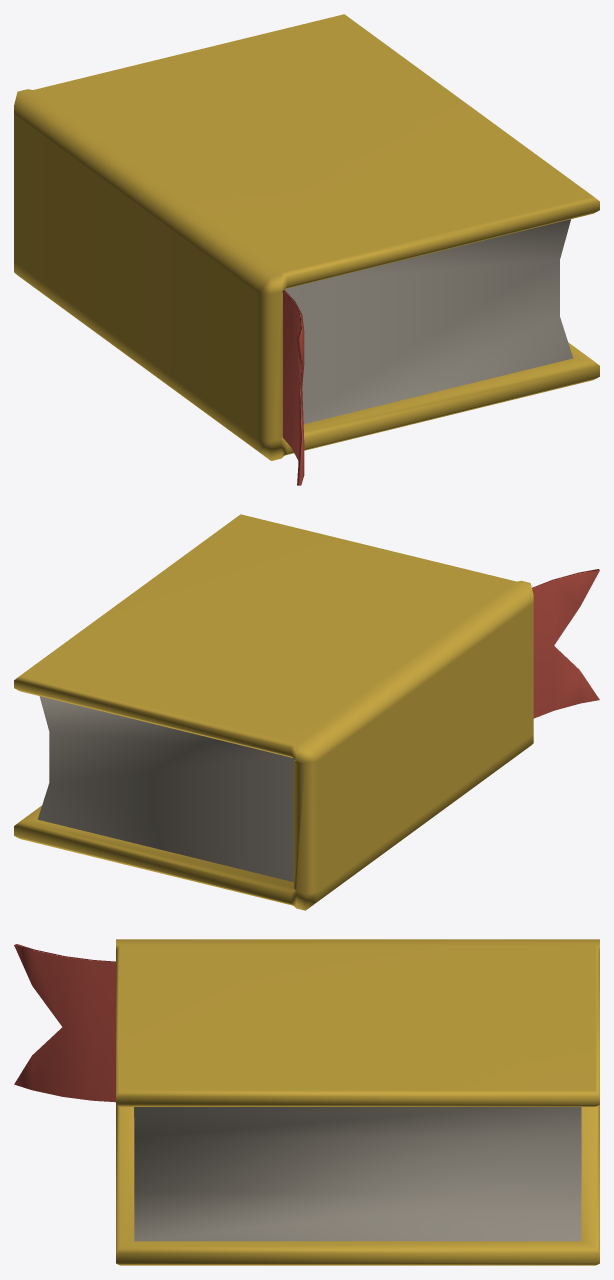
The model's file is BookClosed_v2.fbx.
The picture shows the model from 3 angles, top to bottom: view 1: azimuth 30°, elevation 25°; view 2: azimuth 150°, elevation 25°; view 3: azimuth 270°, elevation 25°; orthographic projection. The views are drawn at different scales.
Visible parts, largest first — view 1: Cover, Ribbon; view 2: Cover, Ribbon; view 3: Cover, Ribbon.
Boxes of the visible parts, x1,y1,x2,y2 form: Cover: (14,14,599,460); Ribbon: (282,289,304,485); Cover: (14,514,533,910); Ribbon: (532,569,599,718); Cover: (116,939,599,1265); Ribbon: (14,944,115,1102).
Size of the model in its own units: 2.41 by 1.19 by 3.61.
